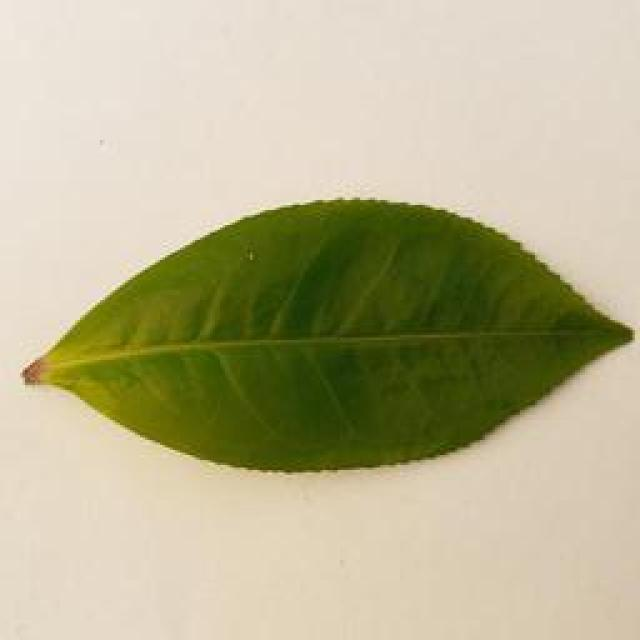Healthy: (22, 189, 633, 481)
